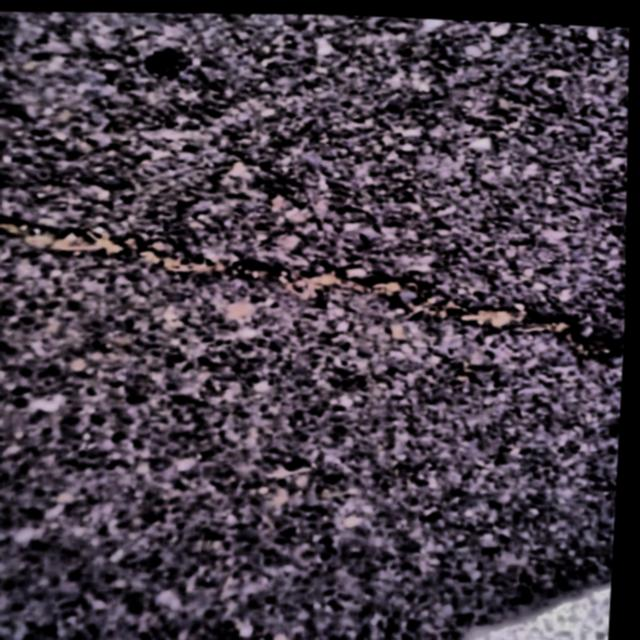Clogged Drains: (0, 189, 628, 385)
